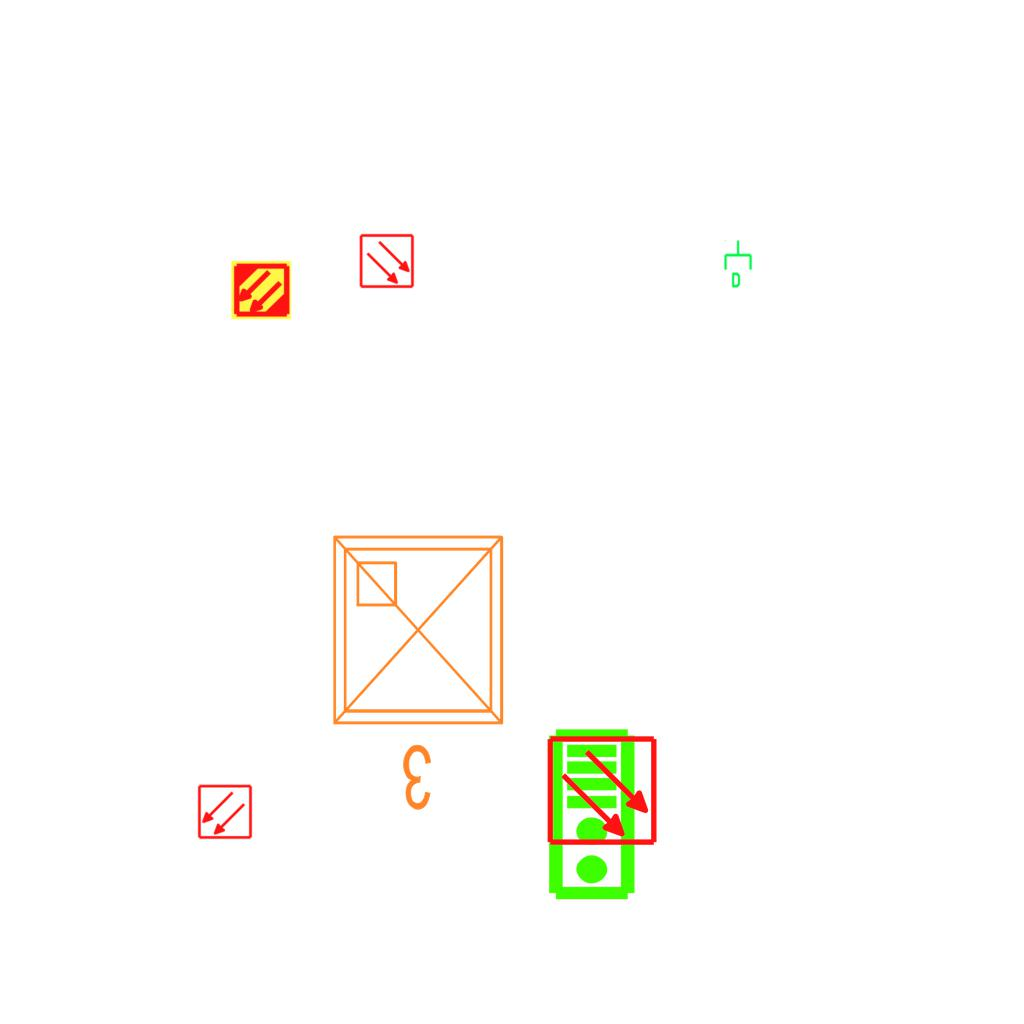ASR_Ansaugrauchmelder: (230, 259, 292, 321)
Datenanschluss_einfach: (722, 239, 756, 289)
Einbaudownlights_LED_Konferenzraeume: (318, 521, 526, 821)
Gegensprechanlage_mit_Video: (546, 727, 641, 903)
RMO_Rauchmelder_optischer: (546, 734, 659, 847), (359, 233, 415, 289), (197, 784, 253, 840)
